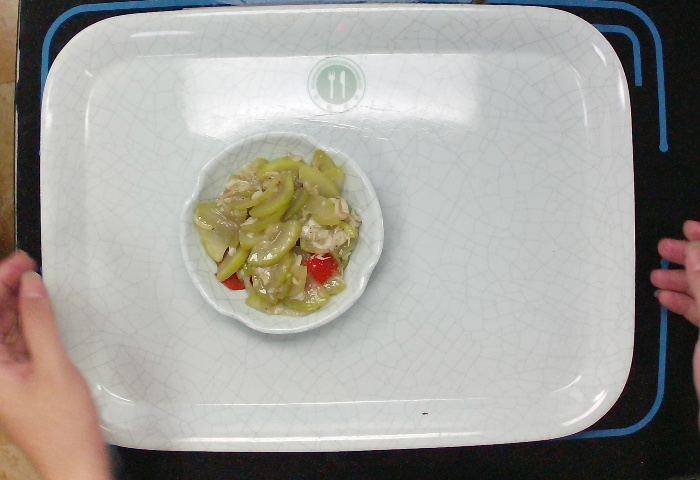JYsf-Ao_Yuan_Wan: (178, 130, 384, 339)
